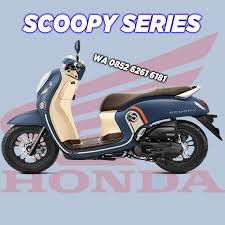motor: (2, 55, 217, 174)
